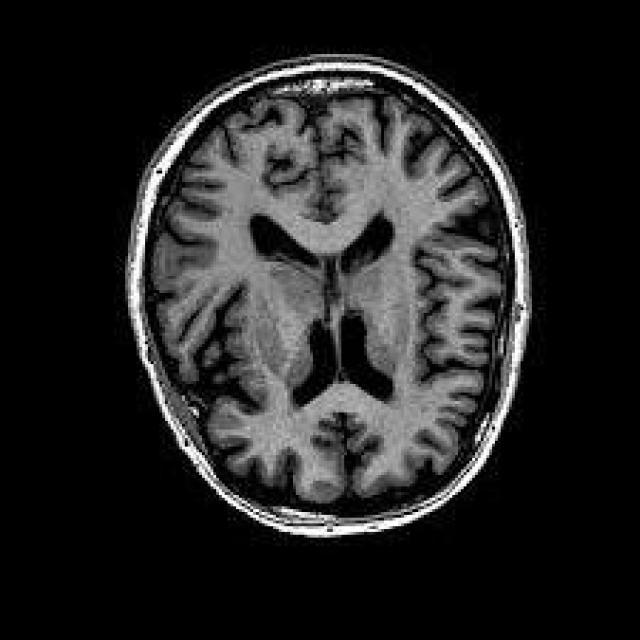notumor: (122, 54, 532, 543)
